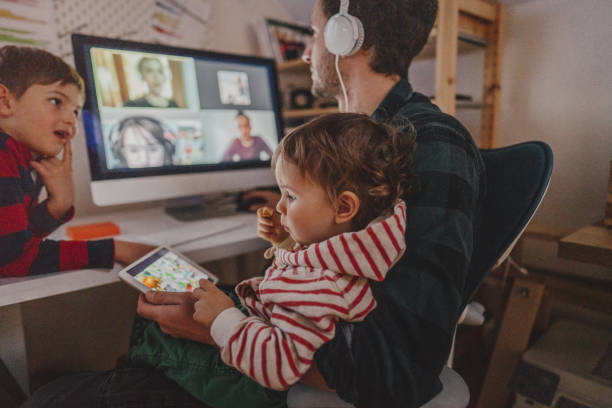without mask: (292, 4, 376, 103), (1, 66, 84, 165), (272, 144, 337, 248), (135, 57, 173, 90), (223, 110, 261, 143)
